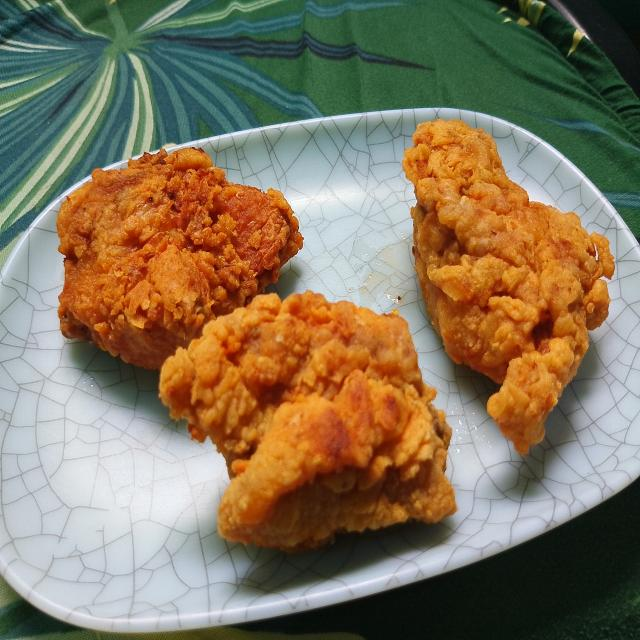Chicken -Fried Chicken-: (156, 284, 465, 560), (399, 107, 627, 460), (47, 132, 313, 381)
